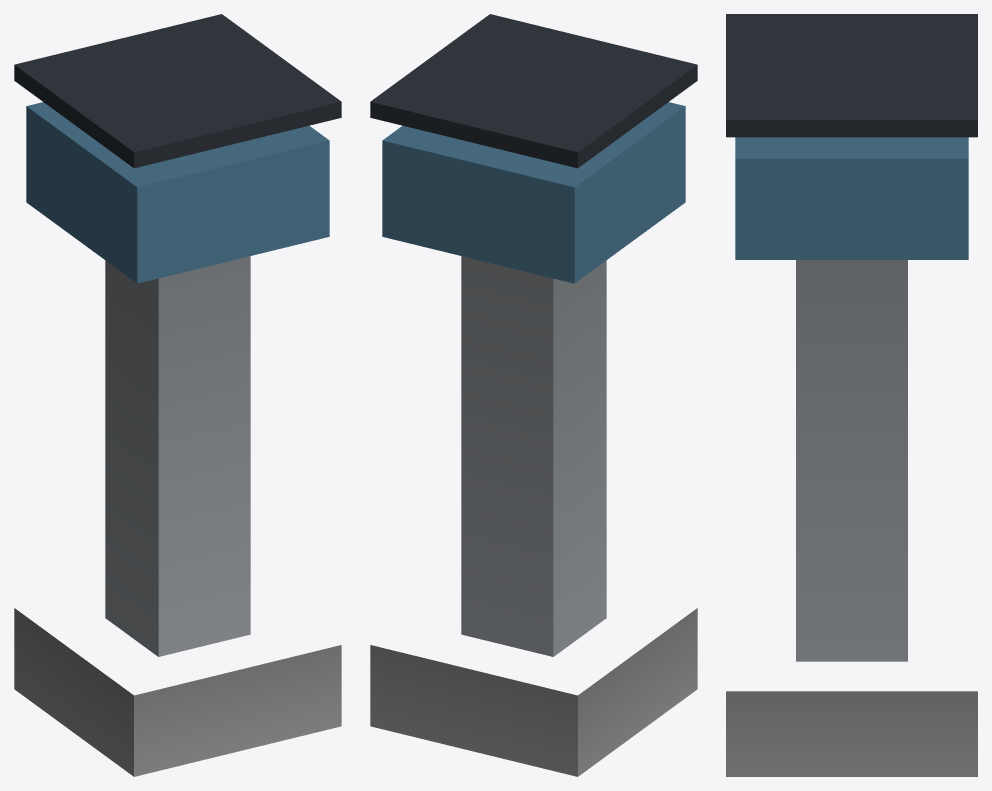
Rendered from aerodrome-control-tower.glb.
The picture shows the model from 3 angles, left to right: view 1: azimuth 30°, elevation 25°; view 2: azimuth 150°, elevation 25°; view 3: azimuth 270°, elevation 25°; orthographic projection. The views are drawn at different scales.
Parts seen in each view (by area): view 1: aerodrome-control-tower; view 2: aerodrome-control-tower; view 3: aerodrome-control-tower.
Part boxes in pixels (x1=…): aerodrome-control-tower: x1=14, y1=14, x2=341, y2=776; aerodrome-control-tower: x1=370, y1=14, x2=697, y2=776; aerodrome-control-tower: x1=726, y1=14, x2=977, y2=776.
Size of the model in its own units: 8 by 23 by 8.
